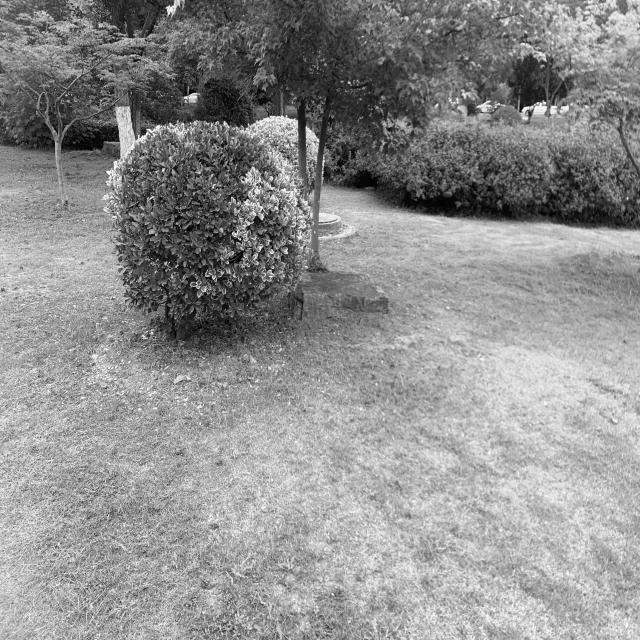Stone: (294, 272, 388, 318)
